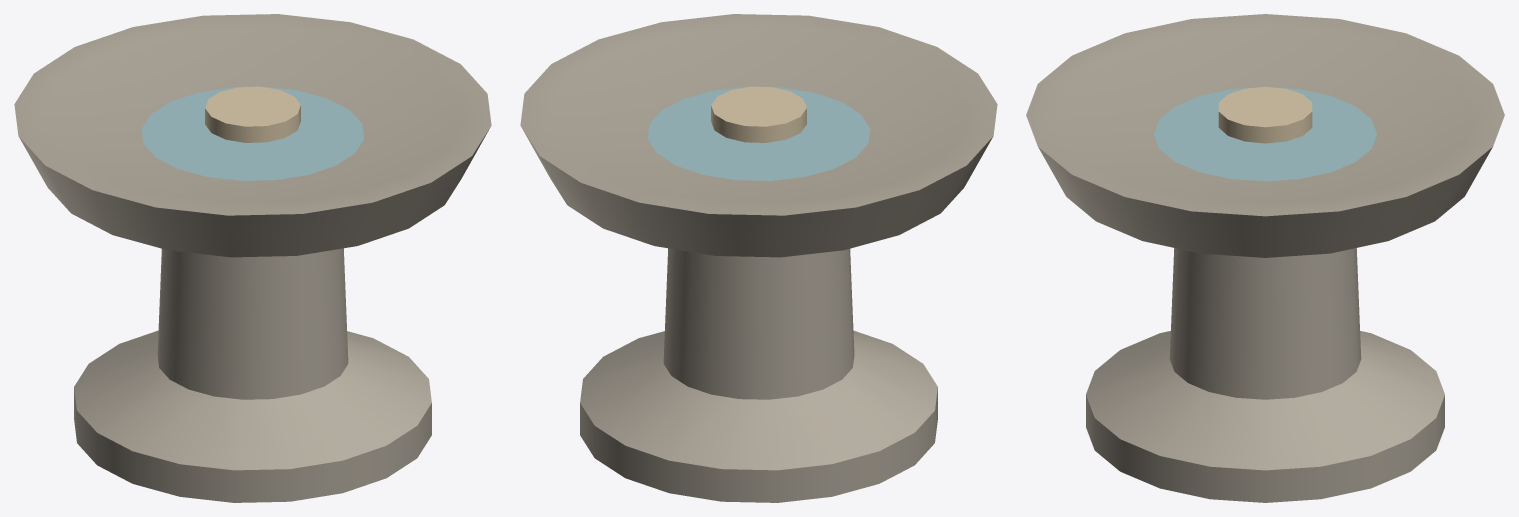
File: dk_basin.gltf
The picture shows the model from 3 angles, left to right: view 1: azimuth 30°, elevation 25°; view 2: azimuth 150°, elevation 25°; view 3: azimuth 270°, elevation 25°; orthographic projection.
Visible parts, largest first — view 1: Body, Water; view 2: Body, Water; view 3: Body, Water.
Boxes of the visible parts, left/top/right/bottom form: Body: left=14, top=14, right=491, bottom=502; Water: left=141, top=86, right=364, bottom=180; Body: left=520, top=14, right=997, bottom=502; Water: left=647, top=86, right=870, bottom=180; Body: left=1026, top=14, right=1504, bottom=502; Water: left=1154, top=87, right=1376, bottom=181.
Size of the model in its own units: 1.6 by 1.18 by 1.6.
